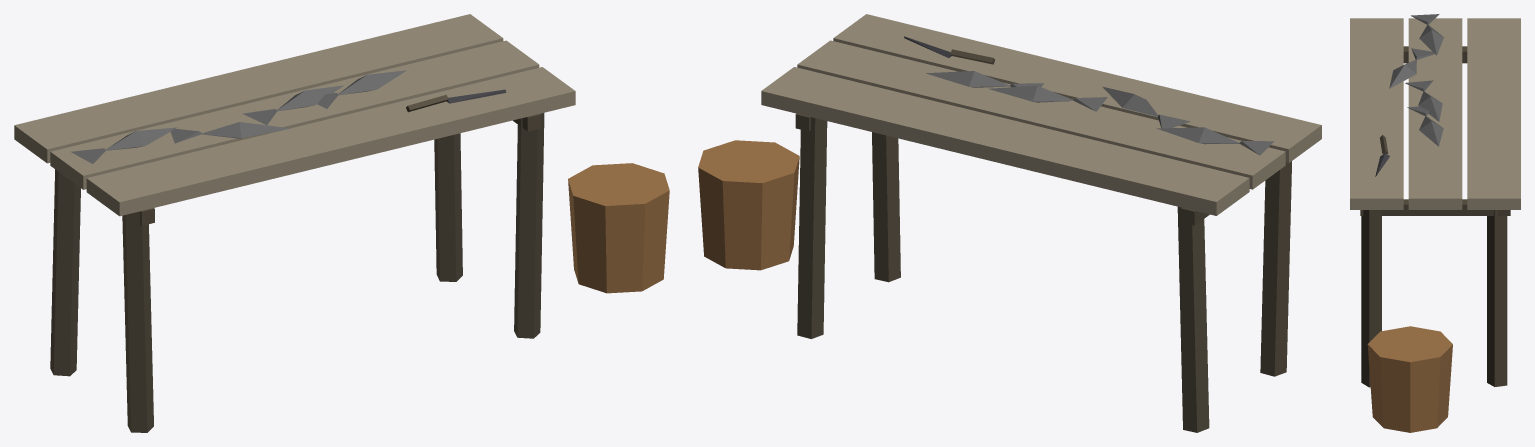
Rendered from GuttingTable.fbx.
The picture shows the model from 3 angles, left to right: view 1: azimuth 30°, elevation 25°; view 2: azimuth 150°, elevation 25°; view 3: azimuth 270°, elevation 25°; orthographic projection. The views are drawn at different scales.
Visible parts, largest first — view 1: GuttingTable; view 2: GuttingTable; view 3: GuttingTable.
Boxes of the visible parts, x1=… form: GuttingTable: x1=14, y1=14, x2=669, y2=432; GuttingTable: x1=698, y1=14, x2=1321, y2=432; GuttingTable: x1=1350, y1=14, x2=1520, y2=432.
Size of the model in its own units: 2.17 by 0.9361 by 0.68.
